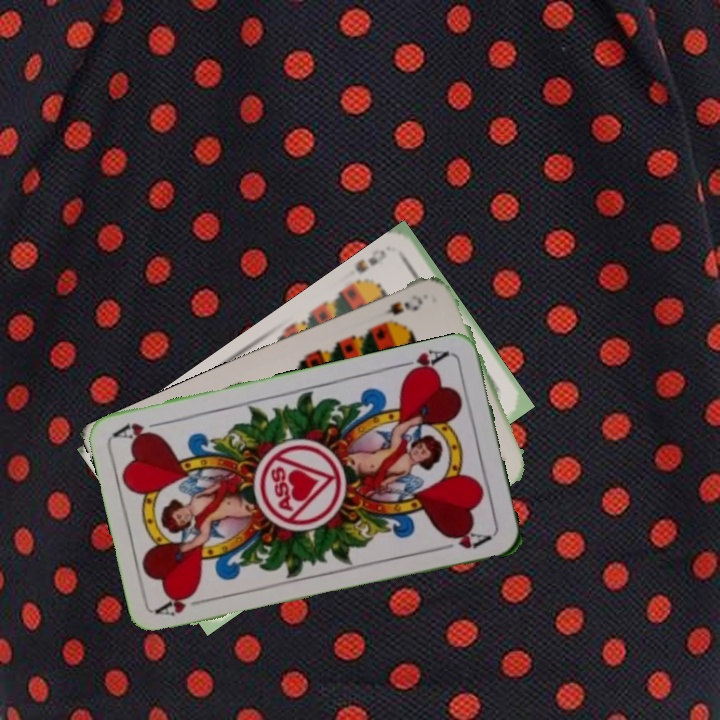HA: (394, 345, 452, 380), (153, 591, 212, 619)
S9: (346, 245, 389, 293), (380, 290, 426, 318)
